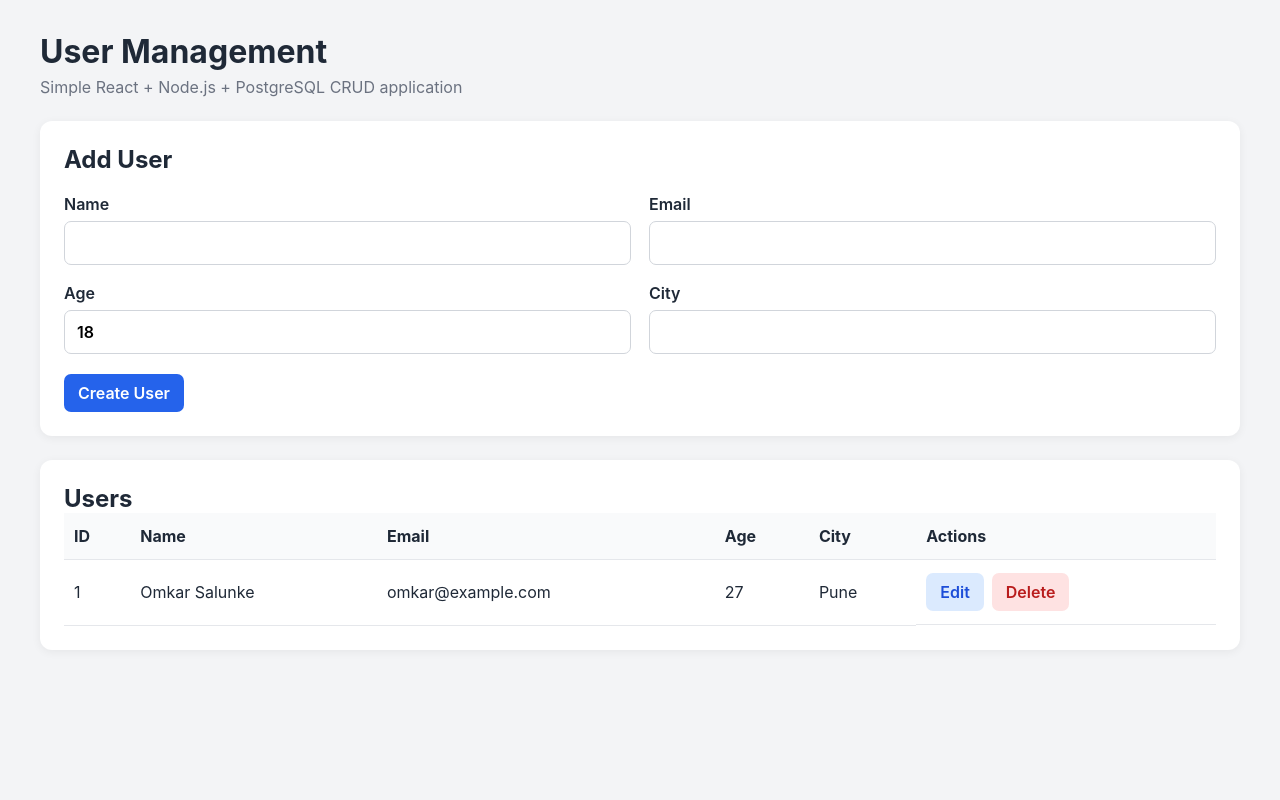
Test: UserManagementPage › populates form when editing
Expected: the text "Omkar Salunke" is shown, x1=130 y1=560 x2=377 y2=625
What coordinates should you click on to do the following:
click the button "Edit"
I would click on:
 (955, 592)
Its box is x1=926 y1=573 x2=984 y2=611.
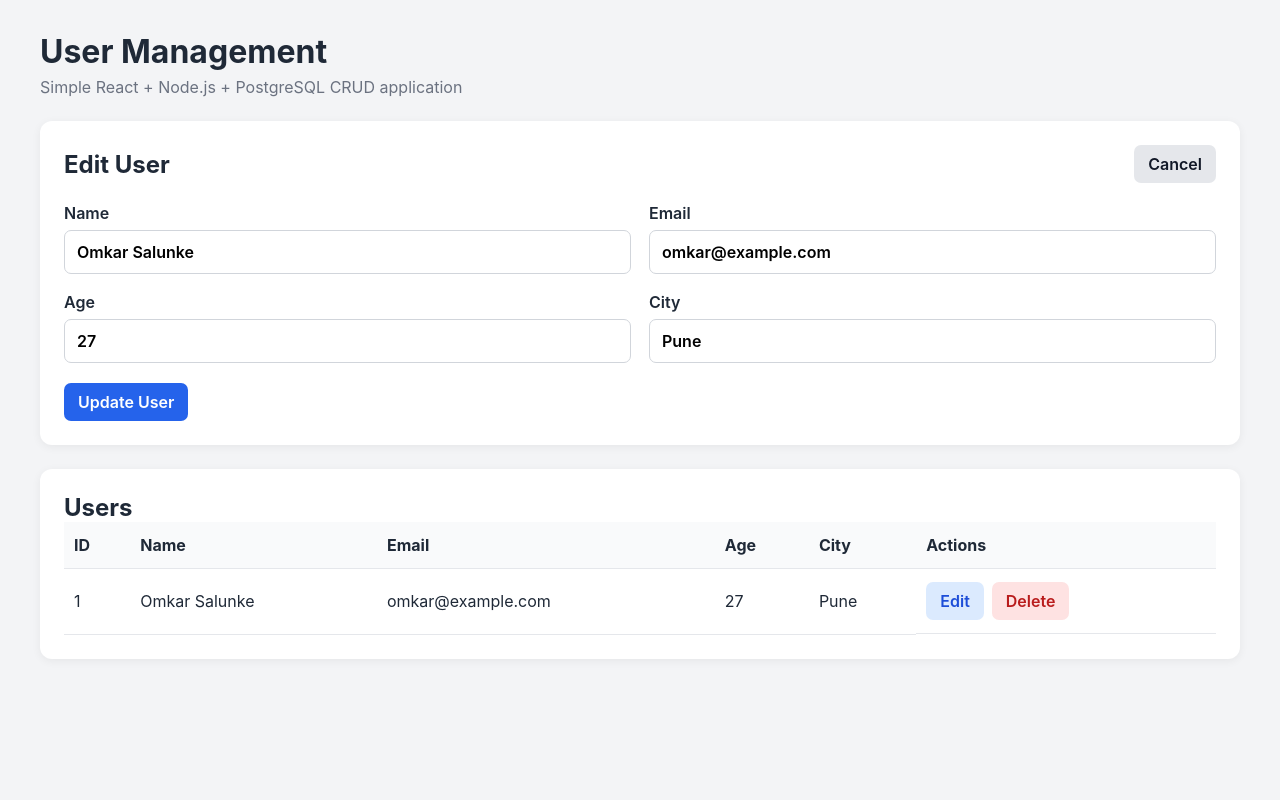
Result: the field showing "Omkar Salunke" is shown at x1=64 y1=230 x2=631 y2=274
Result: the field showing "omkar@example.com" is shown at x1=649 y1=230 x2=1216 y2=274
Result: the button "Update User" is shown at x1=64 y1=383 x2=188 y2=421
